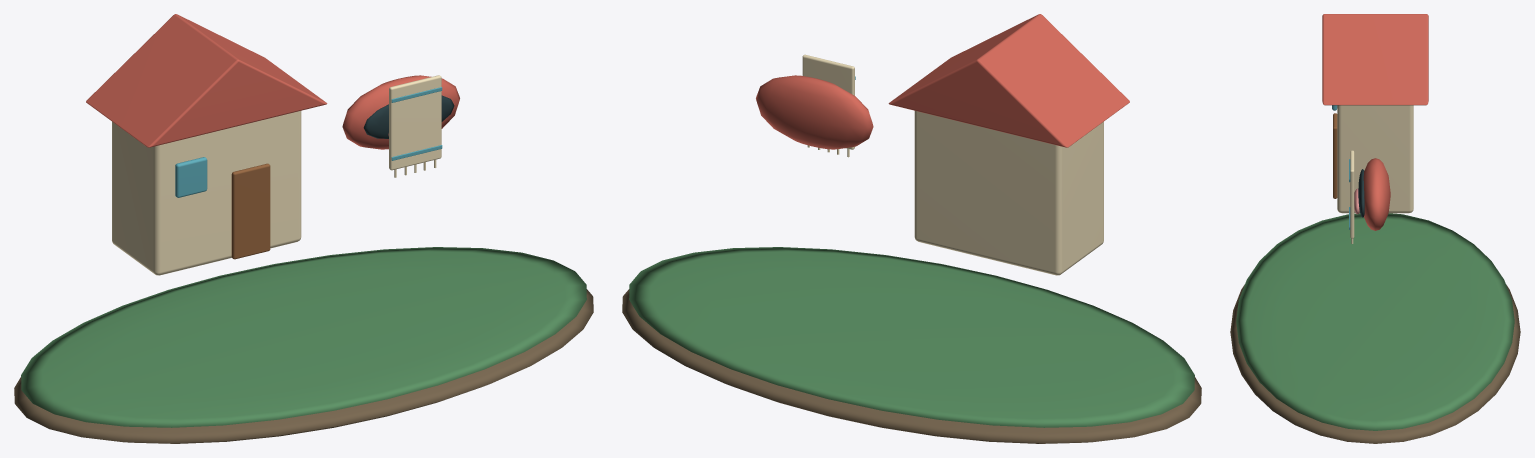
Rendered from complete-second-peaceful-quiet.glb.
3 renders of one model, left to right at view 1: azimuth 30°, elevation 25°; view 2: azimuth 150°, elevation 25°; view 3: azimuth 270°, elevation 25°, orthographic. The views are drawn at different scales.
Visible parts, largest first — view 1: complete-second-peaceful-quiet_surface_01, complete-second-peaceful-quiet_surface_02, complete-second-peaceful-quiet_surface_03, complete-second-peaceful-quiet_surface_00, complete-second-peaceful-quiet_surface_04, complete-second-peaceful-quiet_surface_05, complete-second-peaceful-quiet_surface_06; view 2: complete-second-peaceful-quiet_surface_01, complete-second-peaceful-quiet_surface_02, complete-second-peaceful-quiet_surface_03, complete-second-peaceful-quiet_surface_00; view 3: complete-second-peaceful-quiet_surface_01, complete-second-peaceful-quiet_surface_03, complete-second-peaceful-quiet_surface_02, complete-second-peaceful-quiet_surface_00, complete-second-peaceful-quiet_surface_04.
Boxes of the visible parts, x1,y1,x2,y2 form: complete-second-peaceful-quiet_surface_01: [21, 247, 586, 427]; complete-second-peaceful-quiet_surface_02: [112, 75, 441, 275]; complete-second-peaceful-quiet_surface_03: [86, 14, 459, 149]; complete-second-peaceful-quiet_surface_00: [14, 289, 593, 443]; complete-second-peaceful-quiet_surface_04: [231, 163, 270, 259]; complete-second-peaceful-quiet_surface_05: [175, 87, 442, 197]; complete-second-peaceful-quiet_surface_06: [363, 95, 454, 138]; complete-second-peaceful-quiet_surface_01: [629, 247, 1194, 427]; complete-second-peaceful-quiet_surface_02: [802, 54, 1103, 275]; complete-second-peaceful-quiet_surface_03: [756, 14, 1129, 149]; complete-second-peaceful-quiet_surface_00: [622, 289, 1201, 443]; complete-second-peaceful-quiet_surface_01: [1236, 213, 1514, 430]; complete-second-peaceful-quiet_surface_03: [1322, 14, 1428, 230]; complete-second-peaceful-quiet_surface_02: [1337, 105, 1413, 243]; complete-second-peaceful-quiet_surface_00: [1230, 284, 1520, 443]; complete-second-peaceful-quiet_surface_04: [1333, 113, 1337, 198].
Bounding box in the file's own units: 4.56 × 2.78 × 2.5.
